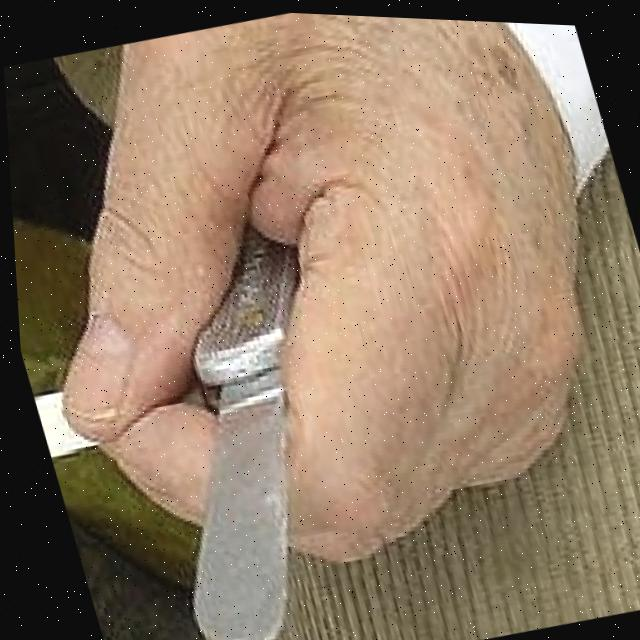knife: (84, 214, 392, 640)
